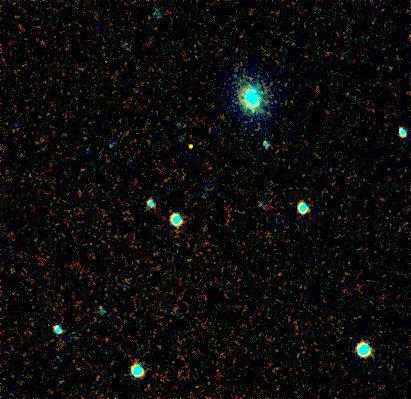star: (178, 131, 208, 161)
